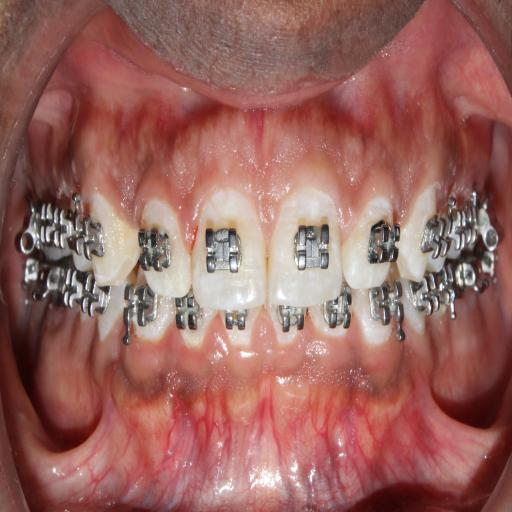correct_brace: (288, 213, 330, 277), (202, 223, 244, 281), (137, 221, 173, 278), (366, 212, 400, 272), (73, 214, 107, 264), (420, 208, 450, 258)
incorrect_brace: (137, 196, 194, 308), (342, 188, 395, 292)
